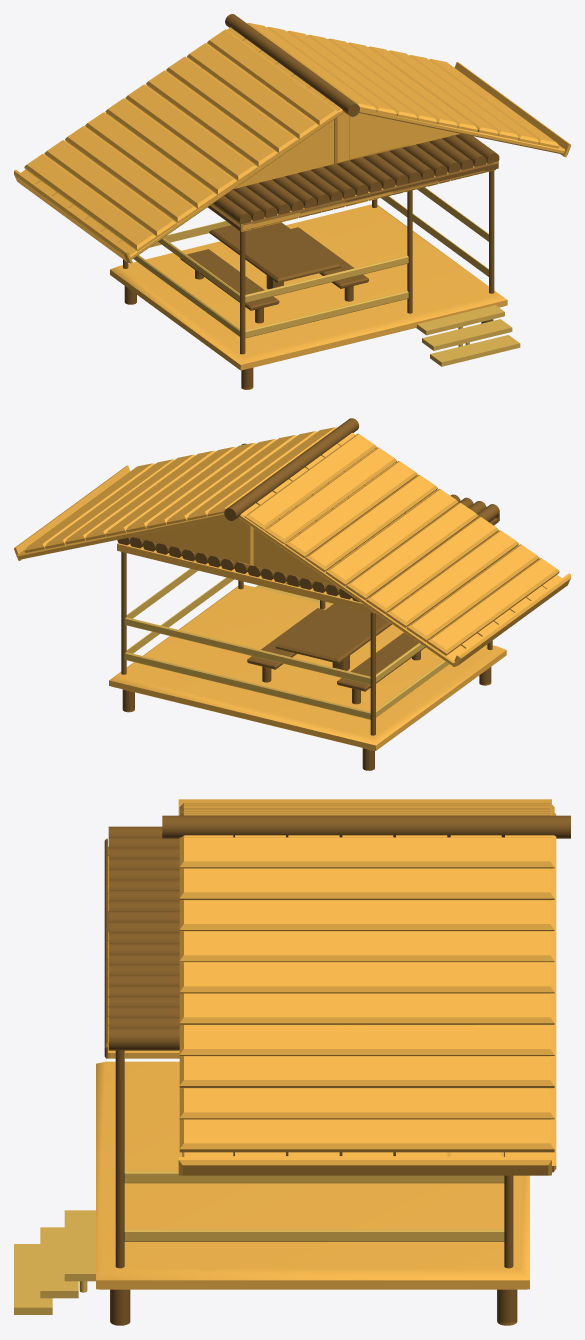
The model's file is Bungalow.fbx.
3 views of the same model, one above another, from view 1: azimuth 30°, elevation 25°; view 2: azimuth 150°, elevation 25°; view 3: azimuth 270°, elevation 25° (orthographic). The views are drawn at different scales.
Parts seen in each view (by area): view 1: Bungalow; view 2: Bungalow; view 3: Bungalow.
Part boxes in pixels (left/top/right/bottom): Bungalow: left=14, top=14, right=570, bottom=389; Bungalow: left=14, top=418, right=570, bottom=770; Bungalow: left=14, top=799, right=570, bottom=1325.
Bounding box in the file's own units: 19.72 × 10.34 × 12.81.
